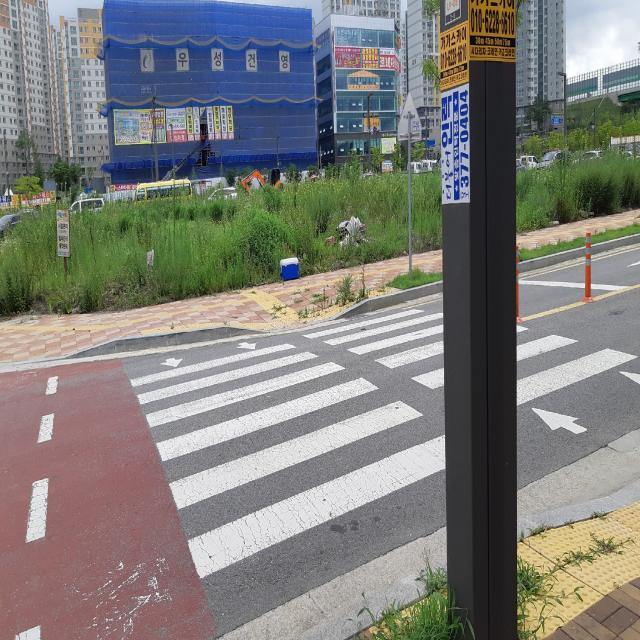횡단보도: (129, 306, 640, 580)
